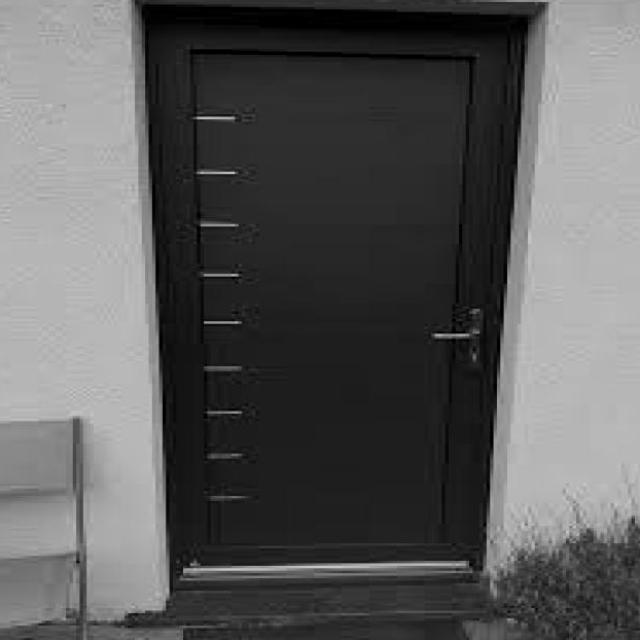Door: (145, 12, 524, 582)
